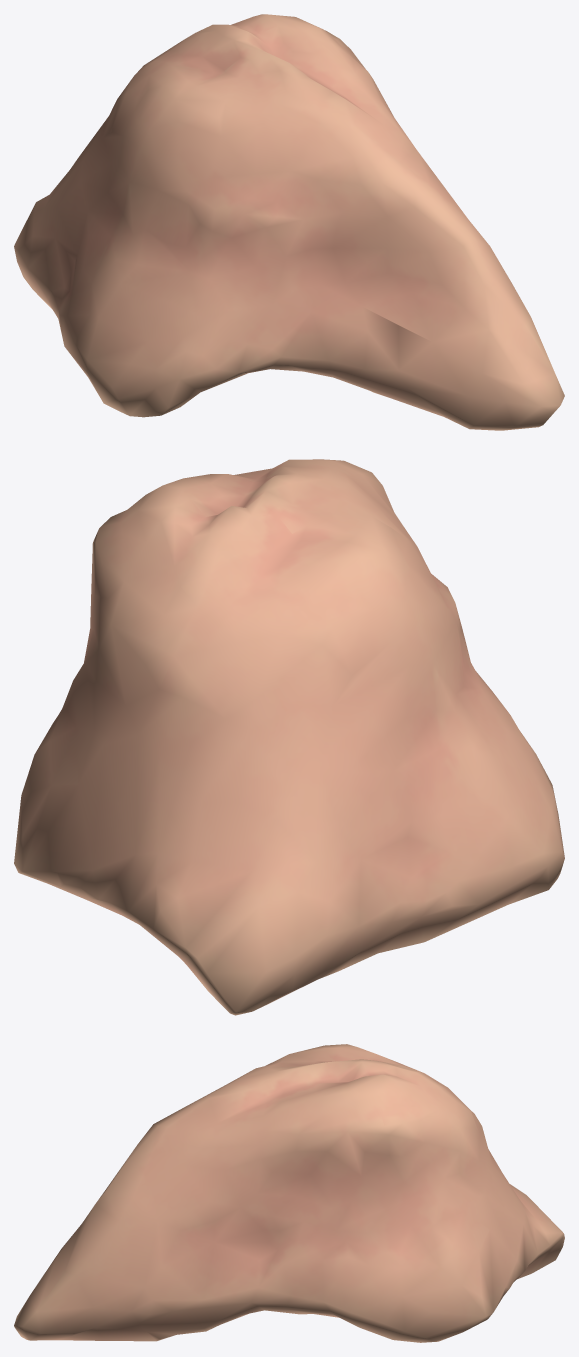
File: ROK0110007.fbx
3 renders of one model, top to bottom at view 1: azimuth 30°, elevation 25°; view 2: azimuth 150°, elevation 25°; view 3: azimuth 270°, elevation 25°, orthographic. The views are drawn at different scales.
Parts seen in each view (by area): view 1: smROK0110007; view 2: smROK0110007; view 3: smROK0110007.
Boxes of the visible parts, x1,y1,x2,y2 form: smROK0110007: [14, 14, 564, 430]; smROK0110007: [14, 459, 564, 1015]; smROK0110007: [14, 1044, 564, 1342].
Bounding box in the file's own units: 229 × 188 × 374.
1 material, 1 textured.
